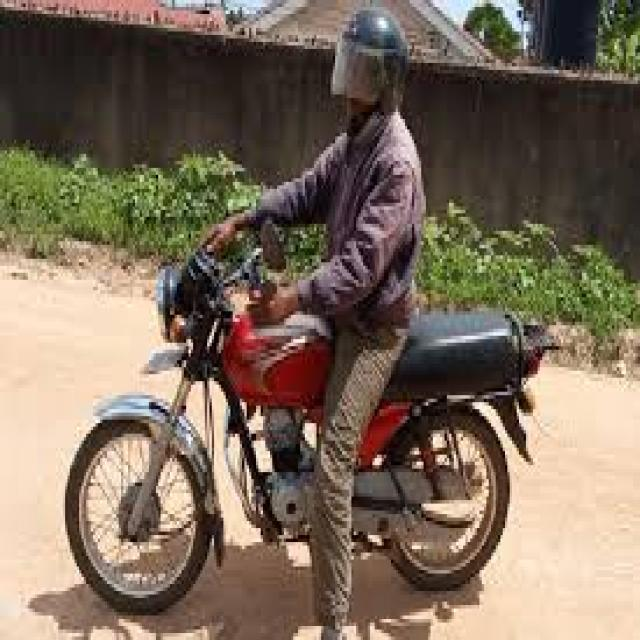bodaboda: (11, 157, 568, 640)
